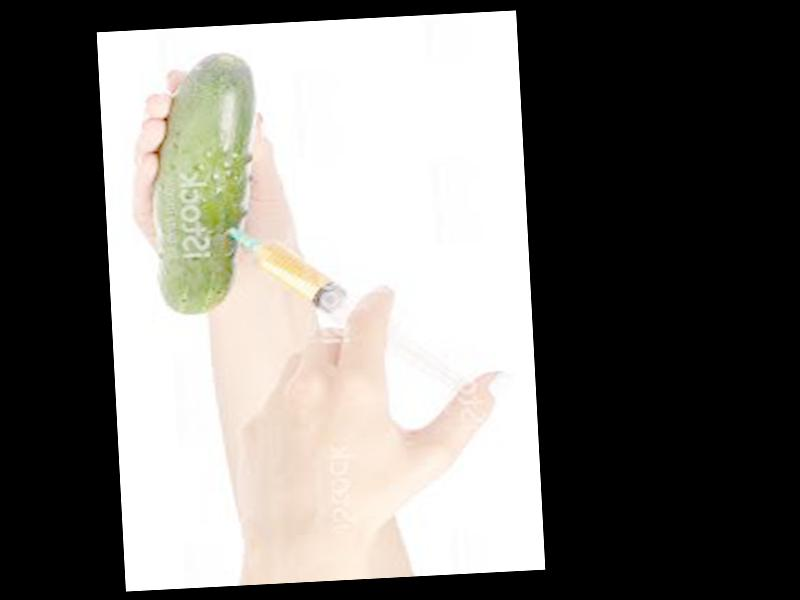Cucumber: (152, 49, 265, 315)
